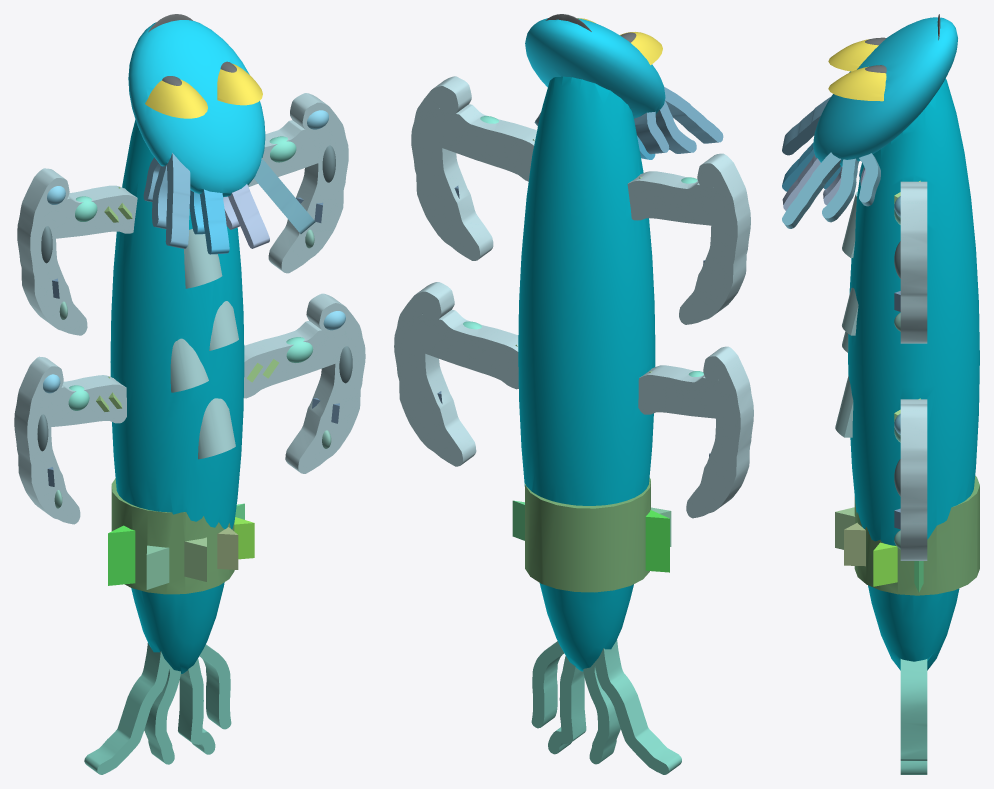
The model's file is dreepy.glb.
3 views of the same model, side by side, from view 1: azimuth 30°, elevation 25°; view 2: azimuth 150°, elevation 25°; view 3: azimuth 270°, elevation 25° (orthographic). The views are drawn at different scales.
Visible parts, largest first — view 1: Object_2; view 2: Object_2; view 3: Object_2.
Boxes of the visible parts, x1,y1,x2,y2 form: Object_2: [14, 14, 365, 774]; Object_2: [394, 14, 753, 774]; Object_2: [782, 14, 979, 774].
Size of the model in its own units: 60.52 by 125 by 30.01.
Materials: 1 (1 with a texture image).
